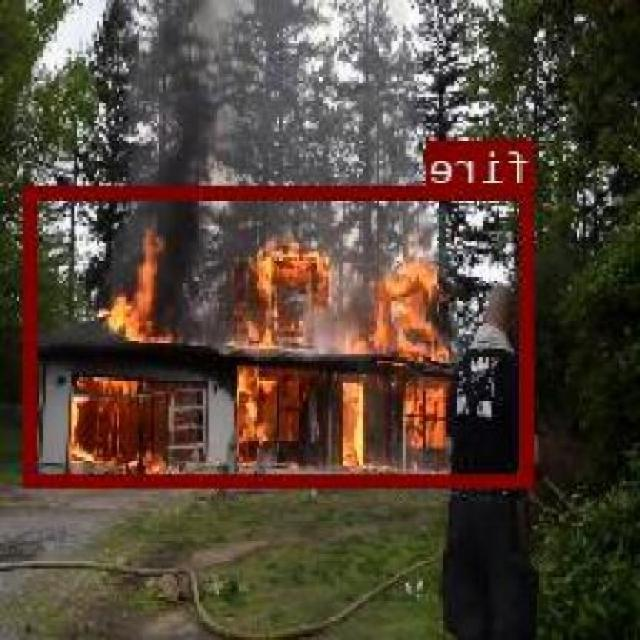Fire: (28, 186, 537, 485)
